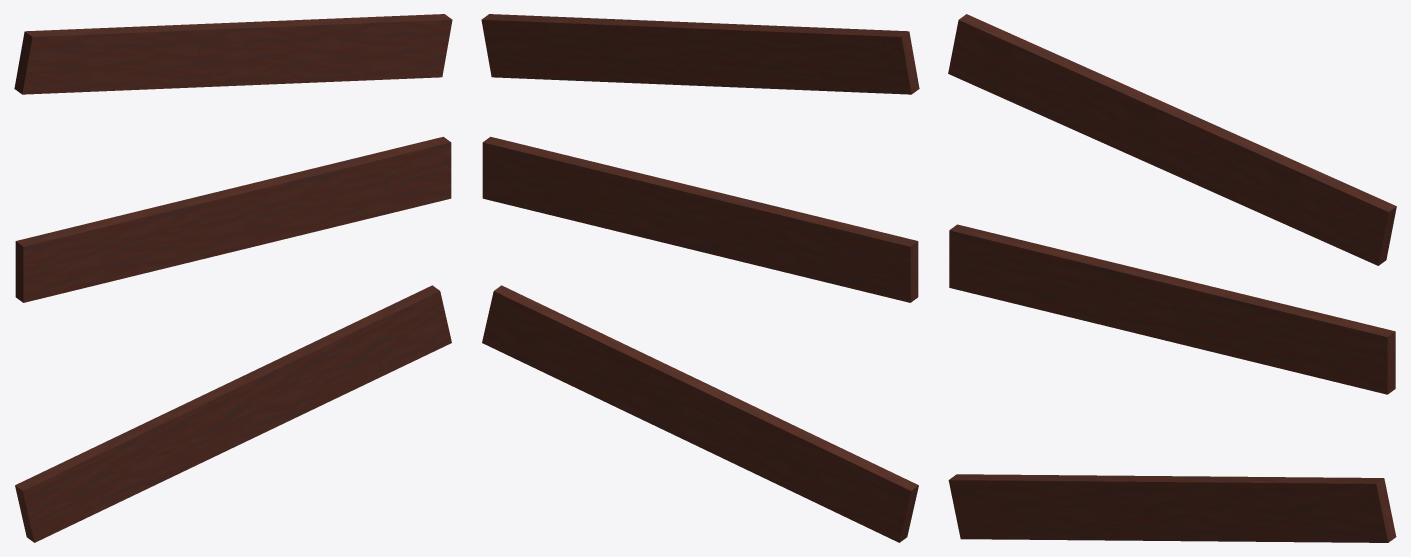
File: Wood.fbx
3 views of the same model, side by side, from view 1: azimuth 30°, elevation 25°; view 2: azimuth 150°, elevation 25°; view 3: azimuth 330°, elevation 25° (orthographic). The views are drawn at different scales.
Parts seen in each view (by area): view 1: Cube.019; view 2: Cube.019; view 3: Cube.019.
Boxes of the visible parts, x1,y1,x2,y2 form: Cube.019: [14, 14, 452, 542]; Cube.019: [481, 14, 919, 542]; Cube.019: [948, 14, 1396, 542].
Bounding box in the file's own units: 146 × 164 × 4.62.
